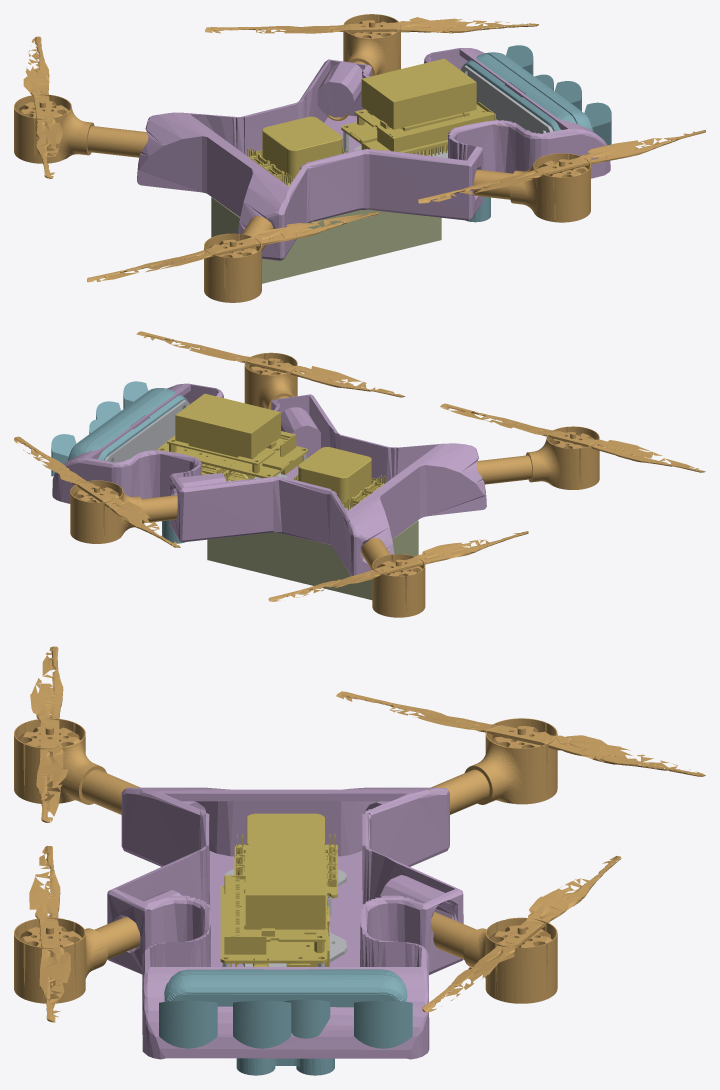
File: agile-drone-2023.glb
3 renders of one model, top to bottom at view 1: azimuth 30°, elevation 25°; view 2: azimuth 150°, elevation 25°; view 3: azimuth 270°, elevation 25°, orthographic. The views are drawn at different scales.
Visible parts, largest first — view 1: Loose parts / core 1, power_unit / 6s 3300 mAh battery-1 1, processing_unit / fan-1 70, motion_unit / arm_motor_assy-4 f100_bracket-1 16, processing_unit / Cube_1-1 std_cube_lid_h20-1mm_20180816.stp, motion_unit / arm_motor_assy-3 f100_bracket-1 12, motion_unit / arm_motor_assy-2 f100_bracket-1 8, motion_unit / arm_motor_assy-3 8in Propeller-1 9, motion_unit / arm_motor_assy-4 8in Propeller-1 13, motion_unit / arm_motor_assy-1 8in Propeller-1 1, motion_unit / arm_motor_assy-2 8in Propeller-1 5, motion_unit / arm_motor_assy-1 f100_bracket-1 4 (+12 smaller); view 2: Loose parts / core 1, power_unit / 6s 3300 mAh battery-1 1, processing_unit / fan-1 70, motion_unit / arm_motor_assy-3 f100_bracket-1 12, processing_unit / Cube_1-1 std_cube_lid_h20-1mm_20180816.stp, motion_unit / arm_motor_assy-1 f100_bracket-1 4, motion_unit / arm_motor_assy-2 f100_bracket-1 8, motion_unit / arm_motor_assy-3 8in Propeller-1 9, motion_unit / arm_motor_assy-4 8in Propeller-1 13, motion_unit / arm_motor_assy-2 8in Propeller-1 5, motion_unit / arm_motor_assy-1 8in Propeller-1 1, motion_unit / arm_motor_assy-4 f100_bracket-1 16 (+10 smaller); view 3: Loose parts / core 1, processing_unit / fan-1 70, motion_unit / arm_motor_assy-1 f100_bracket-1 4, perception_unit / Intel_RealSense_D455_C__SM-1 AM0600131_ASM, motion_unit / arm_motor_assy-2 f100_bracket-1 8, motion_unit / arm_motor_assy-4 f100_bracket-1 16, motion_unit / arm_motor_assy-2 8in Propeller-1 5, motion_unit / arm_motor_assy-3 f100_bracket-1 12, motion_unit / arm_motor_assy-3 8in Propeller-1 9, motion_unit / arm_motor_assy-1 8in Propeller-1 1, motion_unit / arm_motor_assy-4 8in Propeller-1 13, perception_unit / Intel_RealSense_D455_C___ASM-2 DS8480D-ASS (+17 smaller).
Boxes of the visible parts, x1,y1,x2,y2 form: Loose parts / core 1: (137, 48, 610, 260); power_unit / 6s 3300 mAh battery-1 1: (211, 197, 441, 283); processing_unit / fan-1 70: (361, 58, 476, 129); motion_unit / arm_motor_assy-4 f100_bracket-1 16: (510, 153, 590, 222); processing_unit / Cube_1-1 std_cube_lid_h20-1mm_20180816.stp: (262, 116, 342, 179); motion_unit / arm_motor_assy-3 f100_bracket-1 12: (204, 233, 261, 302); motion_unit / arm_motor_assy-2 f100_bracket-1 8: (14, 94, 94, 163); motion_unit / arm_motor_assy-3 8in Propeller-1 9: (87, 211, 378, 282); motion_unit / arm_motor_assy-4 8in Propeller-1 13: (418, 130, 705, 203); motion_unit / arm_motor_assy-1 8in Propeller-1 1: (205, 17, 538, 33); motion_unit / arm_motor_assy-2 8in Propeller-1 5: (23, 36, 62, 178); motion_unit / arm_motor_assy-1 f100_bracket-1 4: (343, 14, 400, 75); Loose parts / core 1: (52, 383, 486, 576); power_unit / 6s 3300 mAh battery-1 1: (207, 520, 418, 599); processing_unit / fan-1 70: (175, 393, 280, 458); motion_unit / arm_motor_assy-3 f100_bracket-1 12: (525, 426, 599, 489); processing_unit / Cube_1-1 std_cube_lid_h20-1mm_20180816.stp: (298, 447, 371, 505); motion_unit / arm_motor_assy-1 f100_bracket-1 4: (70, 480, 144, 543); motion_unit / arm_motor_assy-2 f100_bracket-1 8: (372, 554, 425, 617); motion_unit / arm_motor_assy-3 8in Propeller-1 9: (440, 403, 705, 472); motion_unit / arm_motor_assy-4 8in Propeller-1 13: (136, 331, 405, 397); motion_unit / arm_motor_assy-2 8in Propeller-1 5: (268, 531, 528, 601); motion_unit / arm_motor_assy-1 8in Propeller-1 1: (14, 436, 180, 547); motion_unit / arm_motor_assy-4 f100_bracket-1 16: (244, 352, 297, 409); Loose parts / core 1: (107, 787, 463, 1059); processing_unit / fan-1 70: (245, 845, 325, 929); motion_unit / arm_motor_assy-1 f100_bracket-1 4: (463, 917, 557, 1003); perception_unit / Intel_RealSense_D455_C__SM-1 AM0600131_ASM: (164, 975, 407, 1001); motion_unit / arm_motor_assy-2 f100_bracket-1 8: (464, 718, 557, 804); motion_unit / arm_motor_assy-4 f100_bracket-1 16: (14, 917, 107, 1003); motion_unit / arm_motor_assy-2 8in Propeller-1 5: (336, 691, 705, 776); motion_unit / arm_motor_assy-3 f100_bracket-1 12: (14, 718, 106, 804); motion_unit / arm_motor_assy-3 8in Propeller-1 9: (30, 646, 67, 822); motion_unit / arm_motor_assy-1 8in Propeller-1 1: (422, 856, 621, 1012); motion_unit / arm_motor_assy-4 8in Propeller-1 13: (29, 845, 70, 1022); perception_unit / Intel_RealSense_D455_C___ASM-2 DS8480D-ASS: (354, 1000, 412, 1048).
Size of the model in its own units: 0.4326 by 0.0981 by 0.3374.
